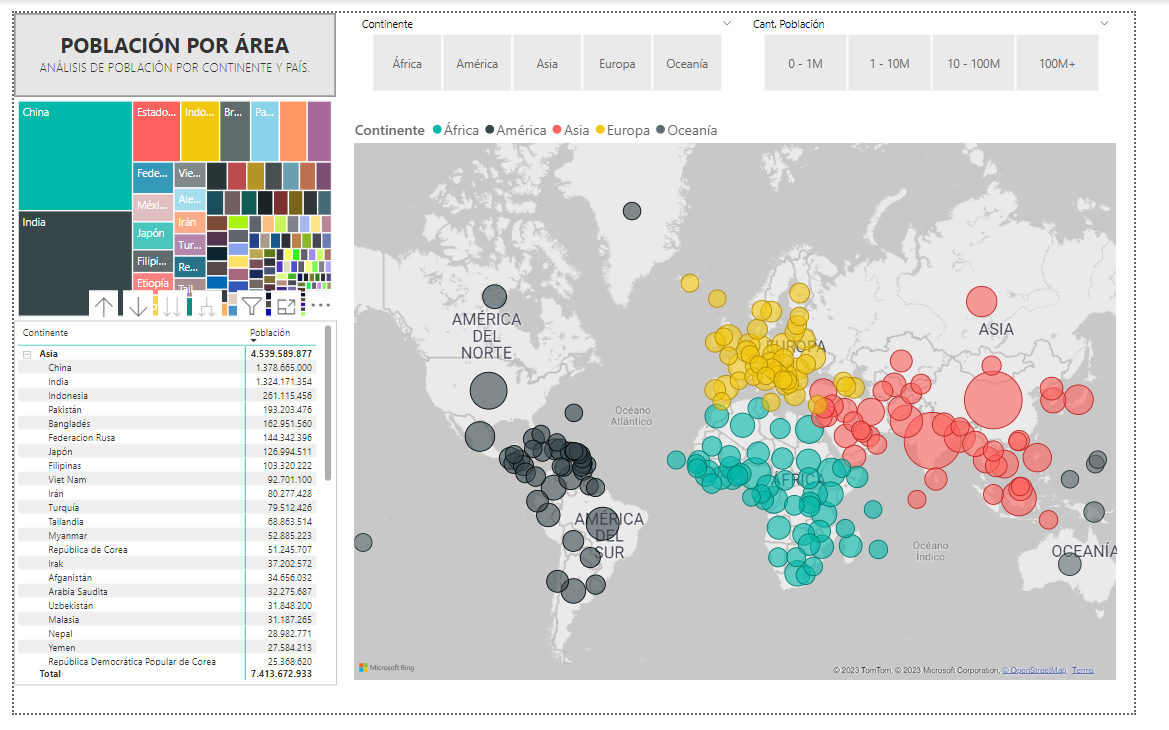

This screenshot's page, from the dashboard's own definition file:
{"tool":"powerbi","page":{"name":"Población por área","canvas":[1280,800],"ordinal":0},"visuals":[{"type":"shape","box":[0,0,368,96],"z":0},{"type":"pivotTable","fields":{"Rows":["Paises.Continente","Paises.Pais"],"Values":["Sum(Population.Población)"]},"box":[0,352,368,416],"z":1000},{"type":"slicer","fields":{"Values":["Population.Cant. Población"]},"box":[832,0,432,96],"z":2000},{"type":"slicer","fields":{"Values":["Paises.Continente"]},"box":[384,0,448,96],"z":3000},{"type":"treemap","fields":{"Group":["Paises.Pais"],"Values":["Sum(Population.Población)"]},"box":[0,96,368,256],"z":4000},{"type":"map","fields":{"Category":["Paises.Pais"],"Size":["Sum(Population.Población)"],"Series":["Paises.Continente"]},"box":[384,112,880,656],"z":5000},{"type":"textbox","box":[16,16,336,64],"z":6000}]}

Visuals, with their boxes in screenshot pixels (x1, y1, x2, y2), scaled from the page's 1280x800 canvas onto the 1169x730 screenshot:
shape: l=0, t=0, r=336, b=88
pivotTable - Paises.Continente x Paises.Pais: l=0, t=321, r=336, b=701
slicer - Population.Cant. Población: l=760, t=0, r=1154, b=88
slicer - Paises.Continente: l=351, t=0, r=760, b=88
treemap - Paises.Pais x Sum(Population.Población): l=0, t=88, r=336, b=321
map - Paises.Pais x Sum(Population.Población): l=351, t=102, r=1154, b=701
textbox: l=15, t=15, r=321, b=73
